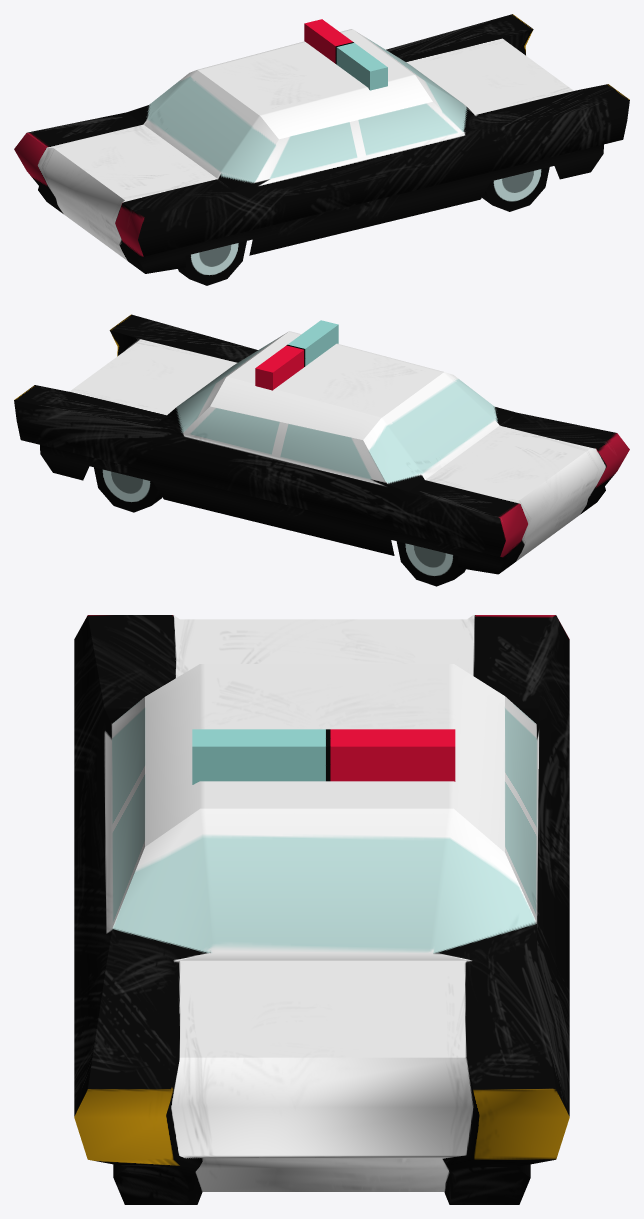
The model's file is PoliceCarColor2.FBX.
3 views of the same model, one above another, from view 1: azimuth 30°, elevation 25°; view 2: azimuth 150°, elevation 25°; view 3: azimuth 270°, elevation 25° (orthographic). The views are drawn at different scales.
Visible parts, largest first — view 1: Box078; view 2: Box078; view 3: Box078.
Part boxes in pixels (x1,y1,x2,y2): Box078: [14, 14, 629, 285]; Box078: [14, 314, 629, 586]; Box078: [74, 615, 569, 1204].
Size of the model in its own units: 191 by 58.65 by 82.54.
1 material, 1 textured.
